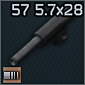FN Five-seveN 5.7x28 barrel: (0, 0, 85, 85)
